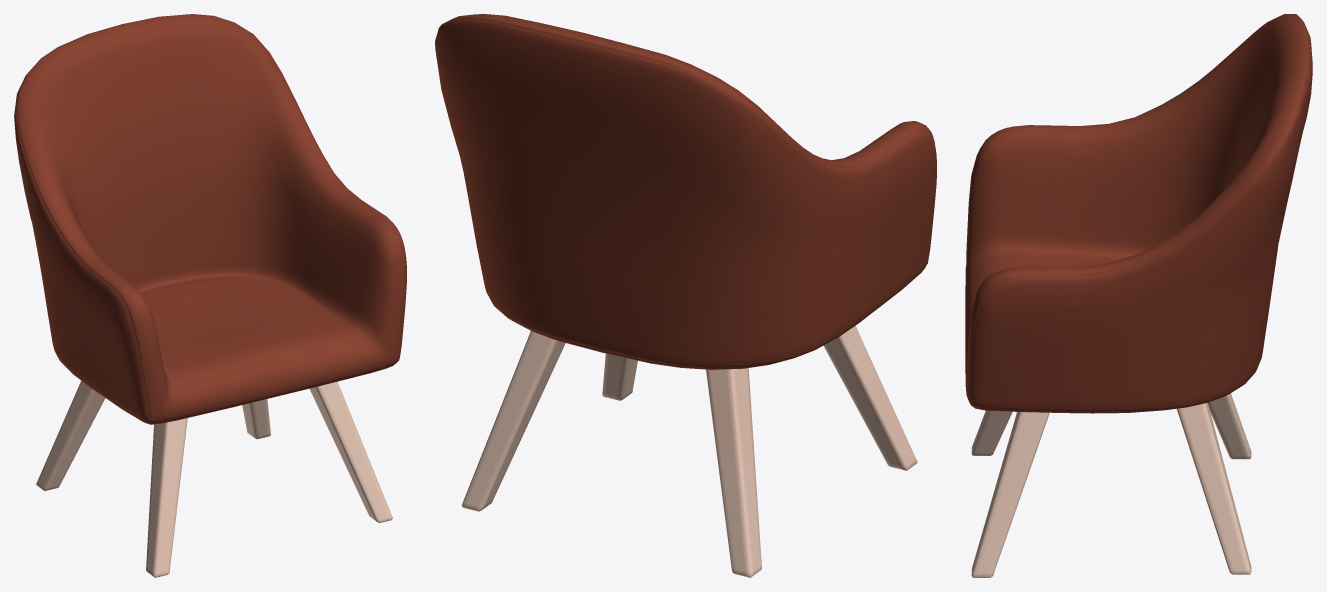
Rendered from chair.glb.
3 views of the same model, side by side, from view 1: azimuth 30°, elevation 25°; view 2: azimuth 150°, elevation 25°; view 3: azimuth 270°, elevation 25° (orthographic). The views are drawn at different scales.
Visible parts, largest first — view 1: seat_mesh_n3d, leg_004_mesh_n3d, leg_003_mesh_n3d, leg_002_mesh_n3d, leg_001_mesh_n3d; view 2: seat_mesh_n3d, leg_002_mesh_n3d, leg_001_mesh_n3d, leg_004_mesh_n3d, leg_003_mesh_n3d; view 3: seat_mesh_n3d, leg_001_mesh_n3d, leg_003_mesh_n3d, leg_002_mesh_n3d, leg_004_mesh_n3d.
Boxes of the visible parts, x1,y1,x2,y2 form: seat_mesh_n3d: [14, 14, 406, 424]; leg_004_mesh_n3d: [146, 418, 187, 577]; leg_003_mesh_n3d: [309, 381, 392, 523]; leg_002_mesh_n3d: [36, 381, 105, 491]; leg_001_mesh_n3d: [242, 399, 270, 439]; seat_mesh_n3d: [435, 14, 936, 369]; leg_002_mesh_n3d: [706, 368, 761, 577]; leg_001_mesh_n3d: [461, 331, 565, 511]; leg_004_mesh_n3d: [823, 326, 917, 470]; leg_003_mesh_n3d: [602, 353, 637, 400]; seat_mesh_n3d: [965, 14, 1312, 413]; leg_001_mesh_n3d: [1176, 402, 1251, 574]; leg_003_mesh_n3d: [971, 412, 1049, 577]; leg_002_mesh_n3d: [1208, 393, 1251, 459]; leg_004_mesh_n3d: [971, 410, 1012, 455].
Bounding box in the file's own units: 0.8208 × 1.14 × 0.7759.
2 materials, 2 textured.
